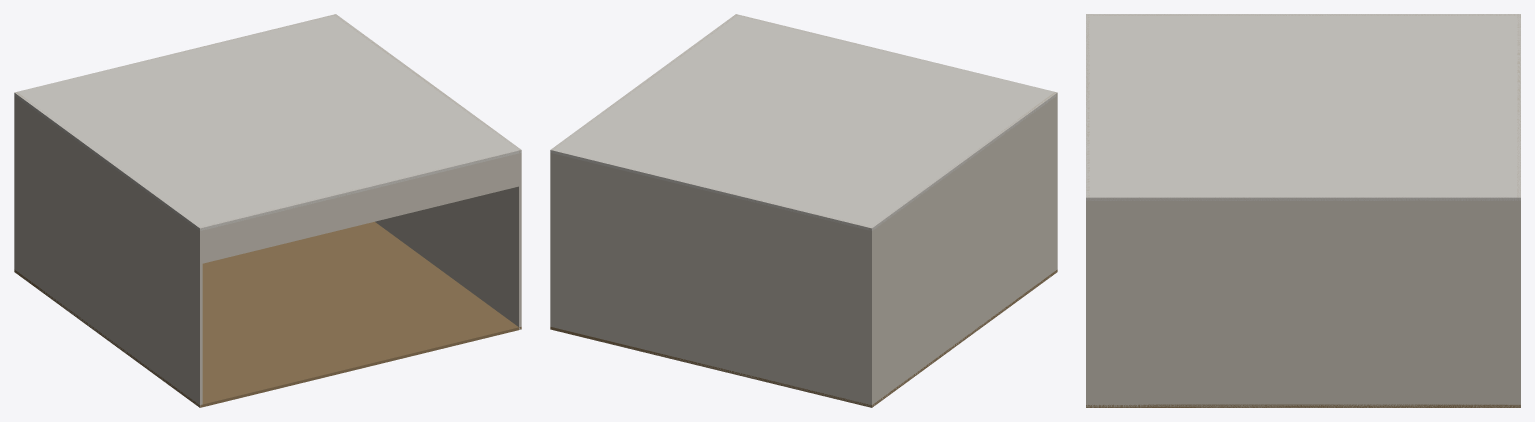
File: victorian_study_001.glb
3 views of the same model, side by side, from view 1: azimuth 30°, elevation 25°; view 2: azimuth 150°, elevation 25°; view 3: azimuth 270°, elevation 25° (orthographic). The views are drawn at different scales.
Visible parts, largest first — view 1: ceiling, floor, left_wall, front_top, right_wall, back_wall; view 2: ceiling, back_wall, left_wall, floor, right_wall; view 3: right_wall, ceiling, floor, back_wall, front_top, left_wall.
Boxes of the visible parts, x1,y1,x2,y2 form: ceiling: (14,14,521,230); floor: (14,221,521,407); left_wall: (14,92,202,407); front_top: (198,150,521,263); right_wall: (334,14,521,329); back_wall: (14,15,333,272); ceiling: (550,14,1057,230); back_wall: (550,150,873,407); left_wall: (869,92,1057,407); floor: (550,269,1057,407); right_wall: (550,14,737,327); right_wall: (1086,197,1520,407); ceiling: (1086,14,1520,200); floor: (1086,404,1520,407); back_wall: (1517,14,1520,407); front_top: (1086,16,1089,239); left_wall: (1086,14,1520,15).
Size of the model in its own units: 6 by 3.2 by 6.
